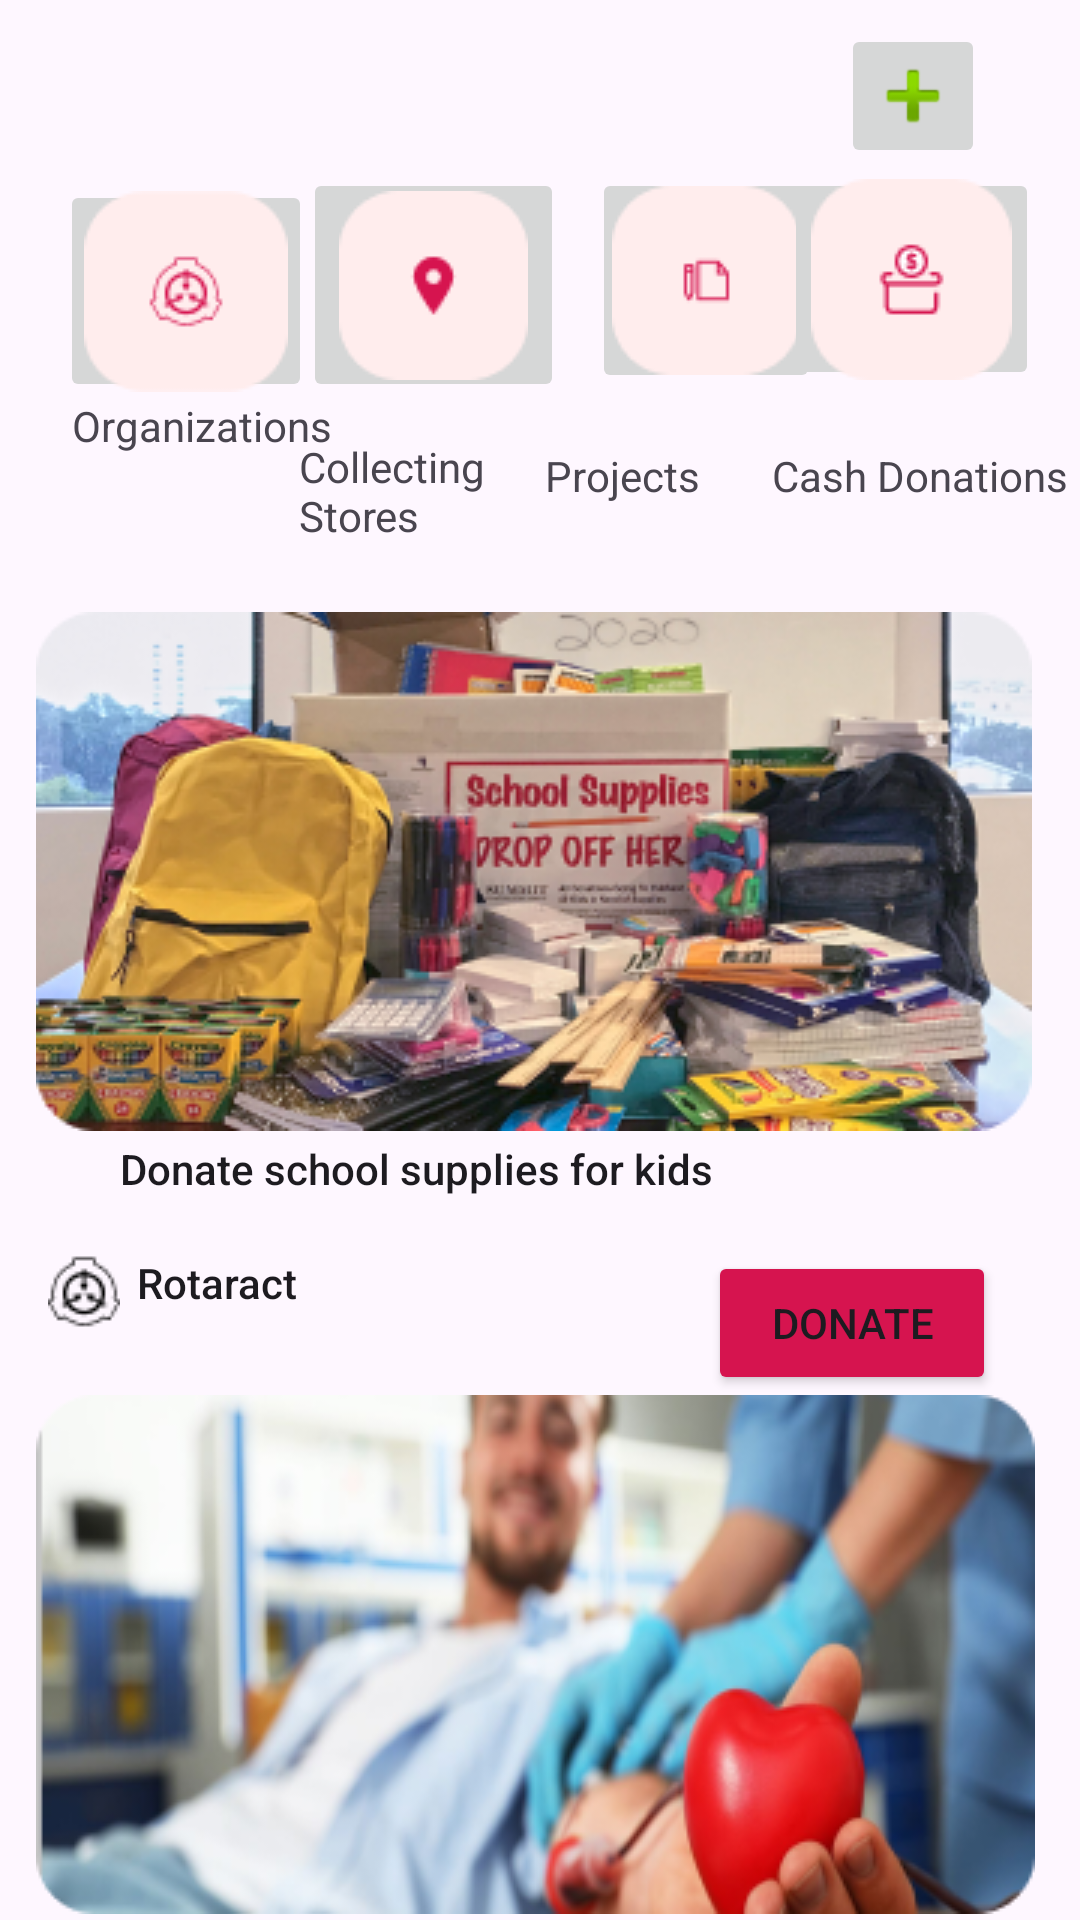

Icons on this 1080 × 1920 Android screen, each with the point to tap as point (x, y):
add: point (913, 96)
